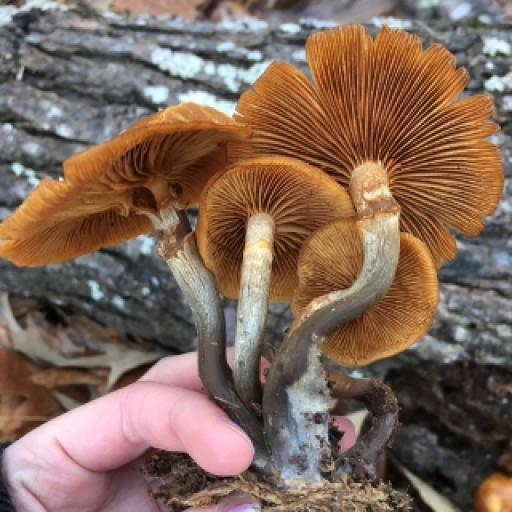mushroom: (4, 16, 507, 382)
